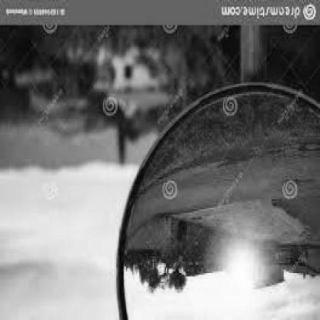other: (215, 246, 271, 307)
